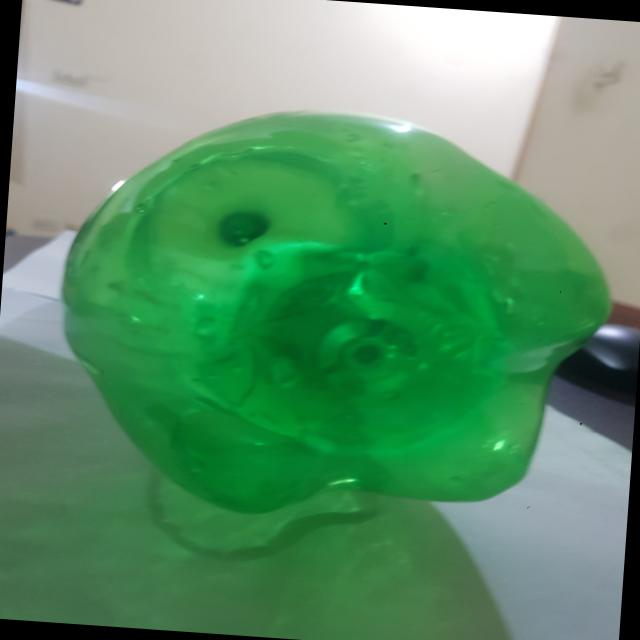general: (44, 90, 625, 542)
